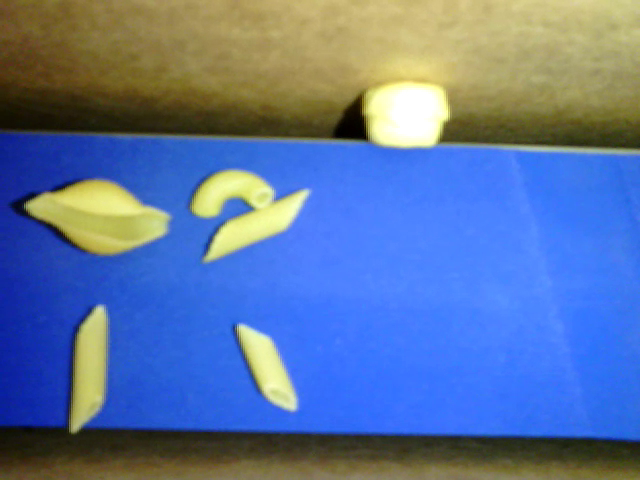elbow: (189, 168, 276, 216)
penne: (203, 187, 310, 262), (236, 322, 299, 412), (69, 302, 108, 433)
shell: (25, 178, 172, 254)
tortellini: (364, 84, 448, 149)
